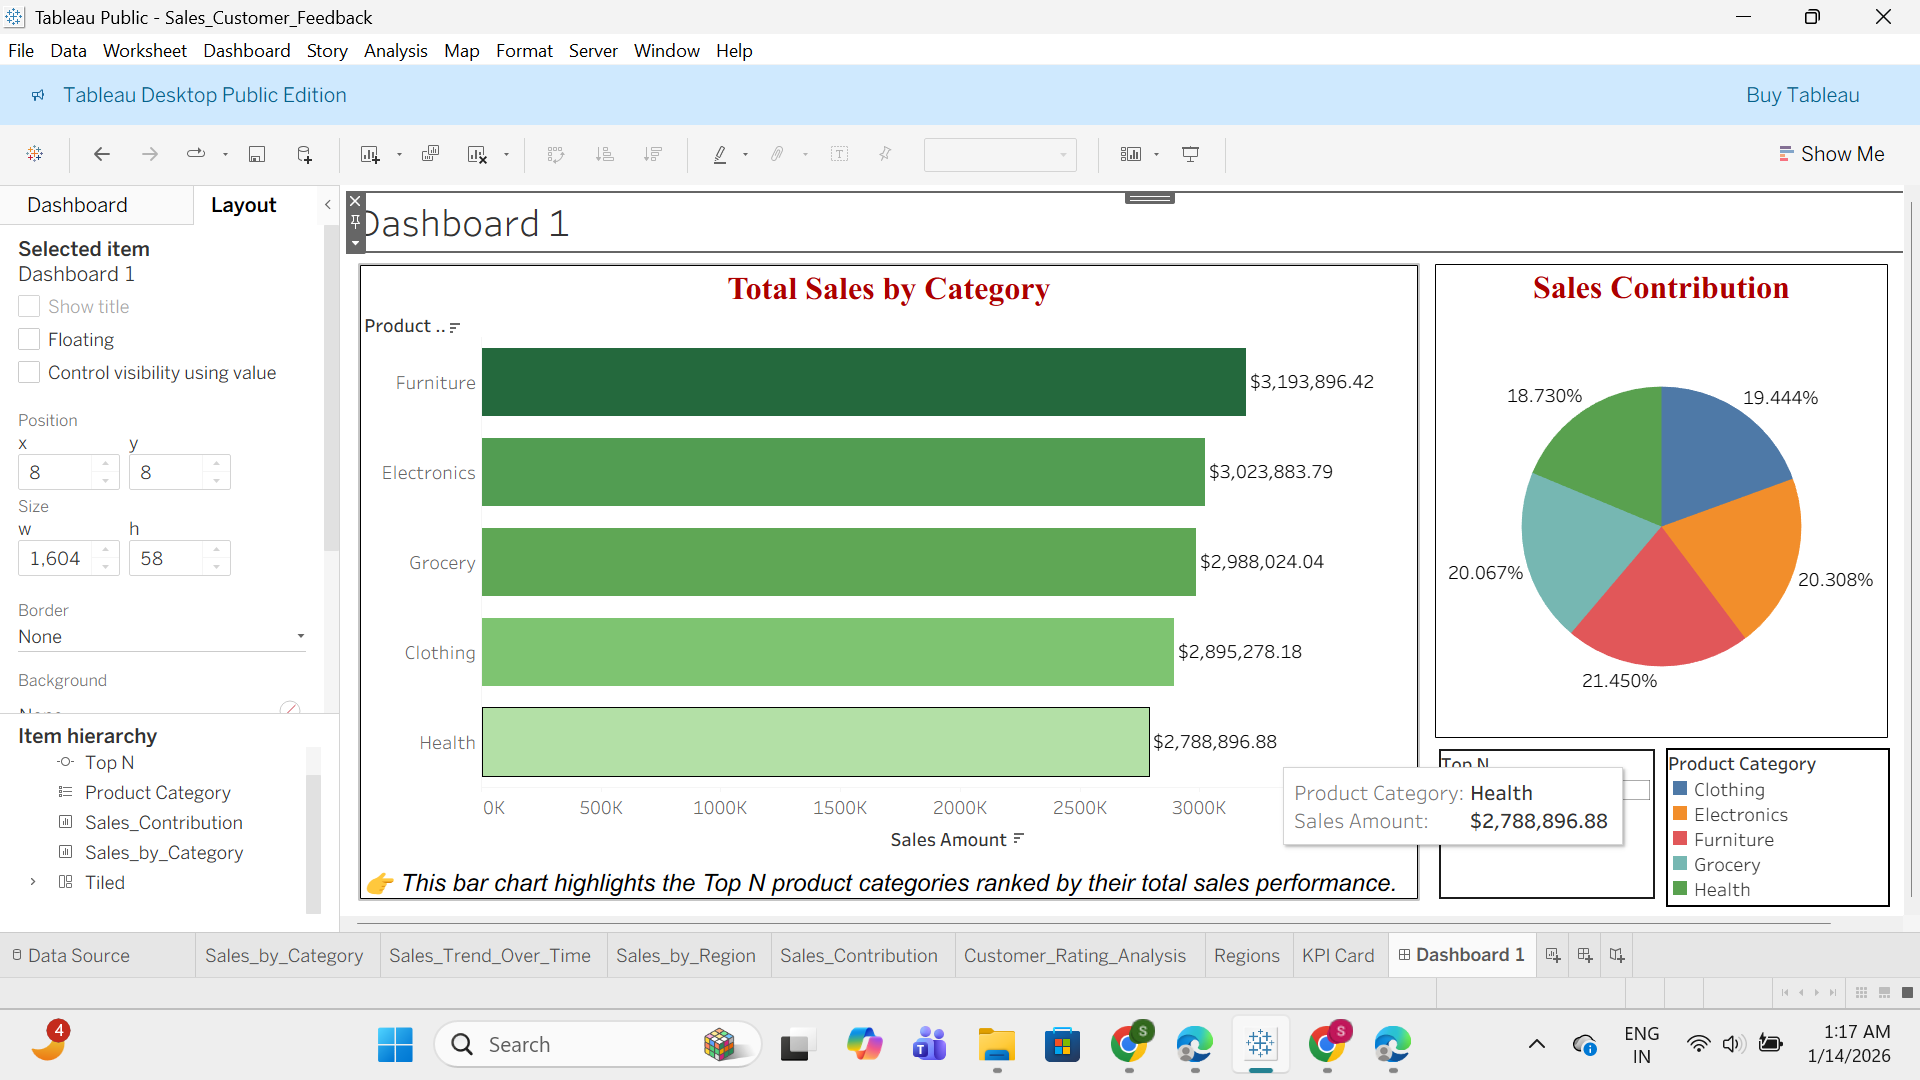

This screenshot's page, from the dashboard's own definition file:
{"tool":"tableau","page":{"name":"Dashboard 1","canvas":[1000,1000],"units":"permille","ordinal":0},"visuals":[{"type":"title","box":[4.9,10.7,990.1,75]},{"type":"worksheet","title":"Sales_Contribution","mark":"Pie","box":[675.7,108.6,310.3,648.8]},{"type":"worksheet","title":"Sales_by_Category","mark":"Automatic","rows":["Product_Category"],"cols":["Sales_Amount"],"box":[12.5,112.6,652.7,866]},{"type":"parameter","param":"[Parameters].[Parameter 3]","box":[677,769.4,148.2,206.4]},{"type":"legend","title":"Sales_Contribution","param":"[federated.1p3hfms09x3x5h1clktr105m0rjh].[none:Product_Category:nk]","box":[832.2,769.4,154.5,206.4]}]}

Visuals, with their boxes on the dashboard's canvas, which has no fixed pixel size, in thousandths of its width and height (x1, y1, x2, y2). These are canvas units, not pixel positions in the 1920x1080 screenshot, which may show the page scaled, cropped or inside an application window:
title: {"left": 5, "top": 11, "right": 995, "bottom": 86}
"Sales_Contribution" worksheet (Pie marks): {"left": 676, "top": 109, "right": 986, "bottom": 757}
"Sales_by_Category" worksheet: {"left": 12, "top": 113, "right": 665, "bottom": 979}
parameter: {"left": 677, "top": 769, "right": 825, "bottom": 976}
"Sales_Contribution" legend: {"left": 832, "top": 769, "right": 987, "bottom": 976}
